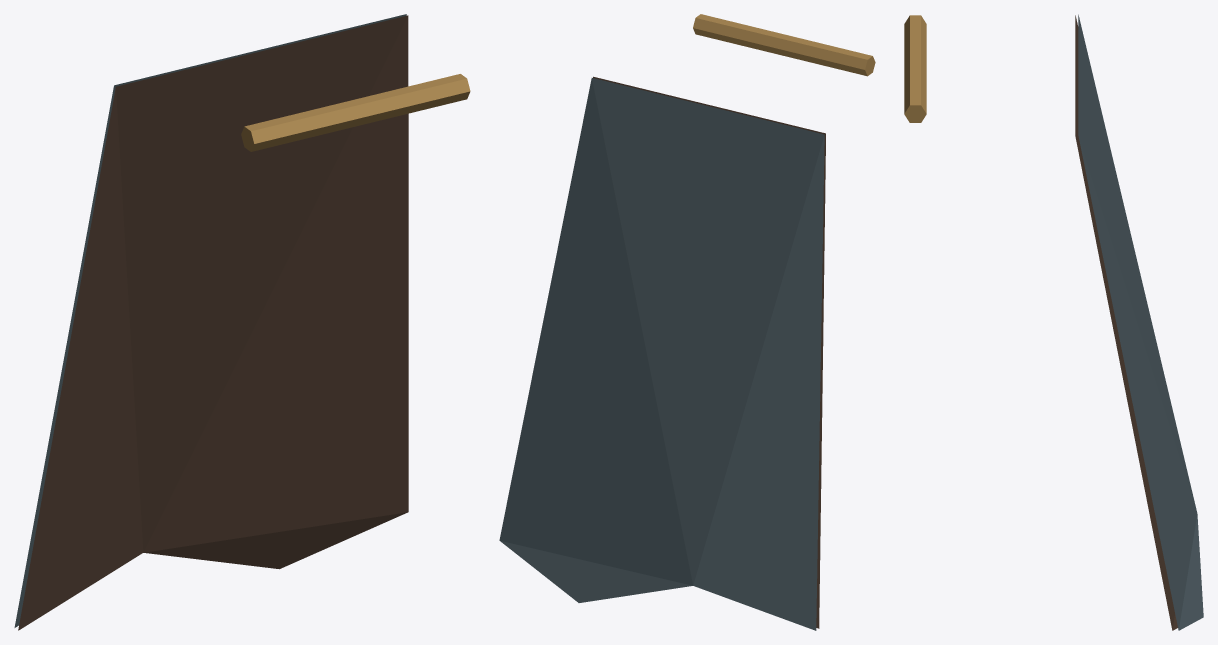
The model's file is NPC_Back_00_Cloak.glb.
3 views of the same model, side by side, from view 1: azimuth 30°, elevation 25°; view 2: azimuth 150°, elevation 25°; view 3: azimuth 270°, elevation 25° (orthographic). The views are drawn at different scales.
Parts seen in each view (by area): view 1: NPC_Back_00_Cloak; view 2: NPC_Back_00_Cloak; view 3: NPC_Back_00_Cloak.
Part boxes in pixels (box(x1,y1,x2,y2)): NPC_Back_00_Cloak: box(14, 14, 470, 630); NPC_Back_00_Cloak: box(499, 14, 875, 630); NPC_Back_00_Cloak: box(904, 14, 1203, 630).
Size of the model in its own units: 0.62 by 0.9156 by 0.478.
